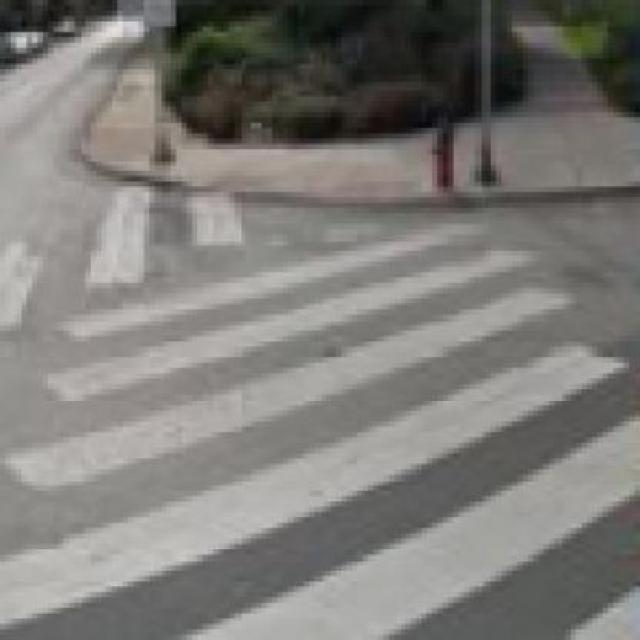crosswalk: (3, 212, 640, 640), (1, 182, 249, 331)
